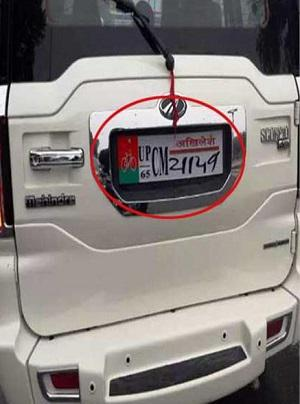licence-plate: (112, 129, 230, 181)
